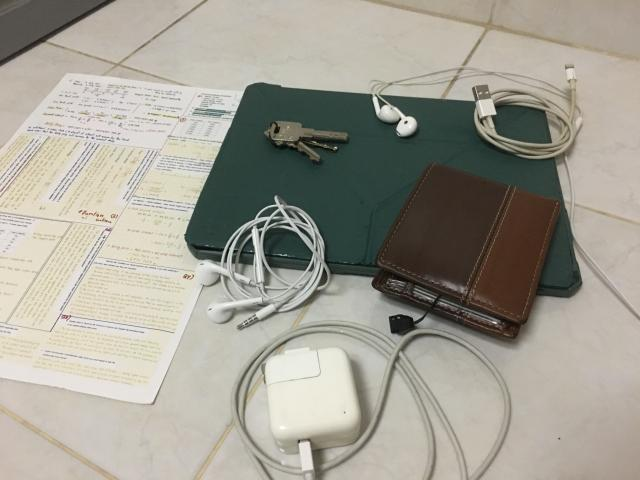Keys: (264, 121, 349, 162)
Wallet: (372, 162, 560, 339), (195, 196, 330, 329)
paper: (0, 74, 284, 404)
wire: (231, 321, 511, 479), (472, 64, 581, 159), (370, 66, 465, 138)
